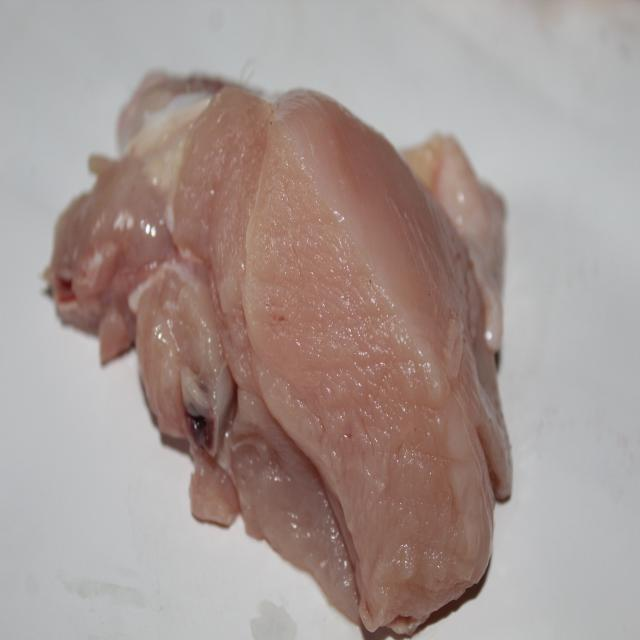chicken: (49, 76, 505, 634)
